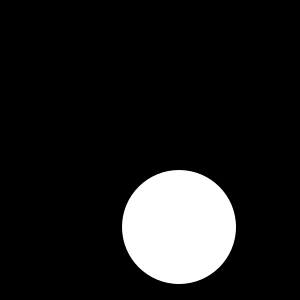rectangle: (122, 170, 236, 284)
